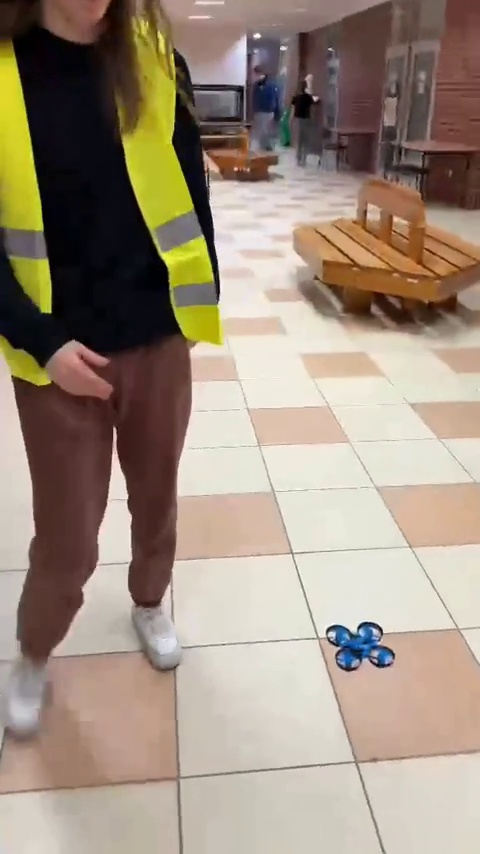drone: (325, 620, 396, 668)
no vest: (245, 61, 285, 162), (288, 81, 319, 156)
vest: (2, 9, 225, 733)
